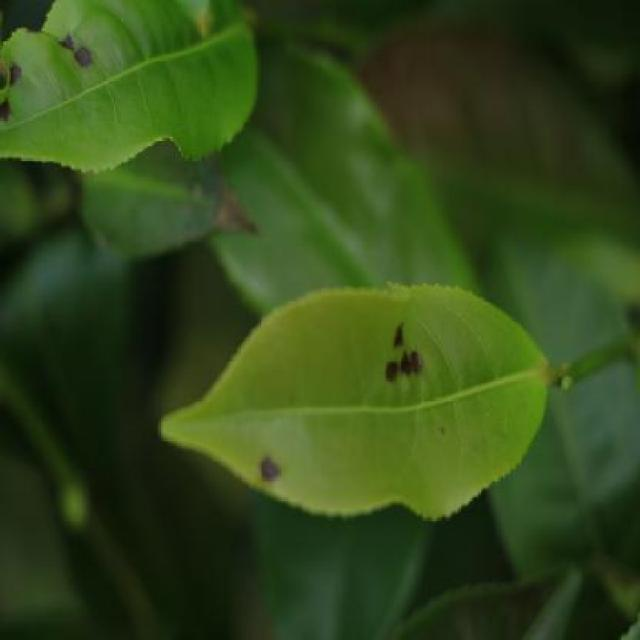Tea Mosquito bug infested leaf: (176, 277, 538, 514), (0, 11, 128, 168)
